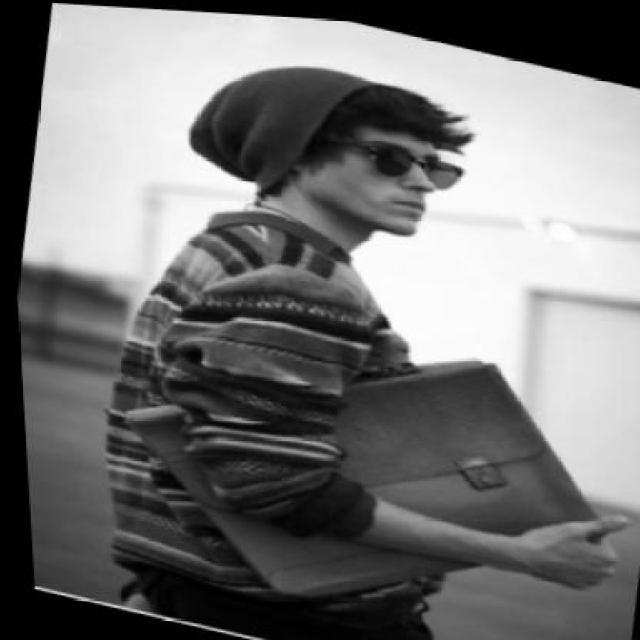hat: (169, 28, 406, 221)
